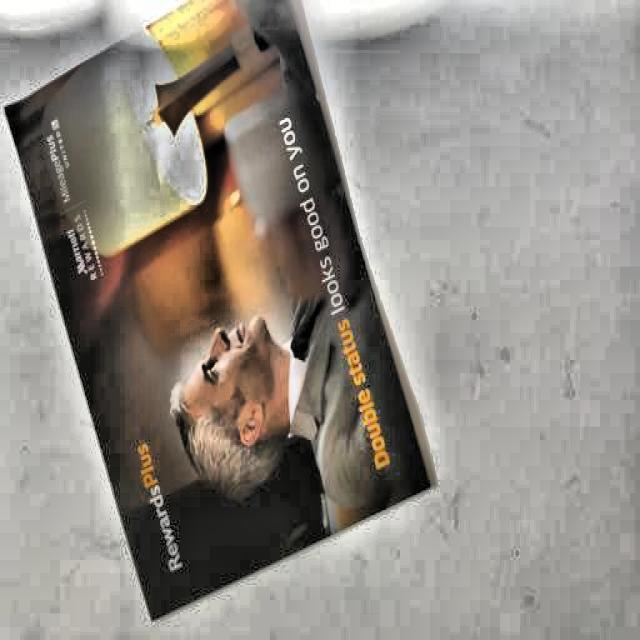paper: (4, 0, 430, 592)
